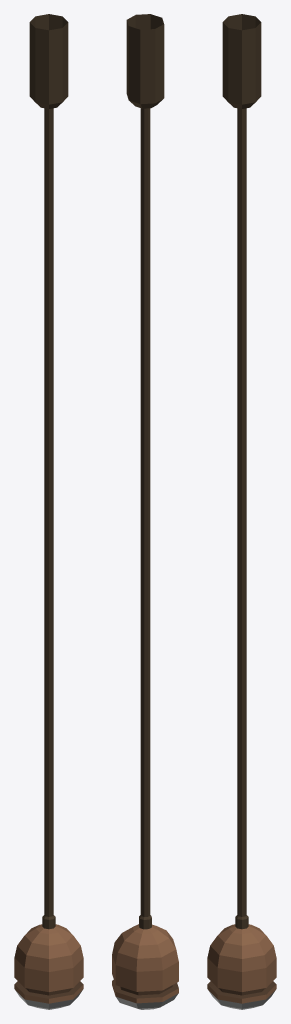
File: SM_Prop_CeilingFan_02.obj
3 renders of one model, left to right at view 1: azimuth 90°, elevation 25°; view 2: azimuth 210°, elevation 25°; view 3: azimuth 270°, elevation 25°, orthographic.
Visible parts, largest first — view 1: SM_Prop_CeilingFan_02_0; view 2: SM_Prop_CeilingFan_02_0; view 3: SM_Prop_CeilingFan_02_0.
Boxes of the visible parts, x1,y1,x2,y2 form: SM_Prop_CeilingFan_02_0: (14,14,83,1009); SM_Prop_CeilingFan_02_0: (112,14,178,1009); SM_Prop_CeilingFan_02_0: (207,14,276,1009).
Bounding box in the file's own units: 0.3585 × 5.63 × 0.3585.
1 material, 1 textured.
